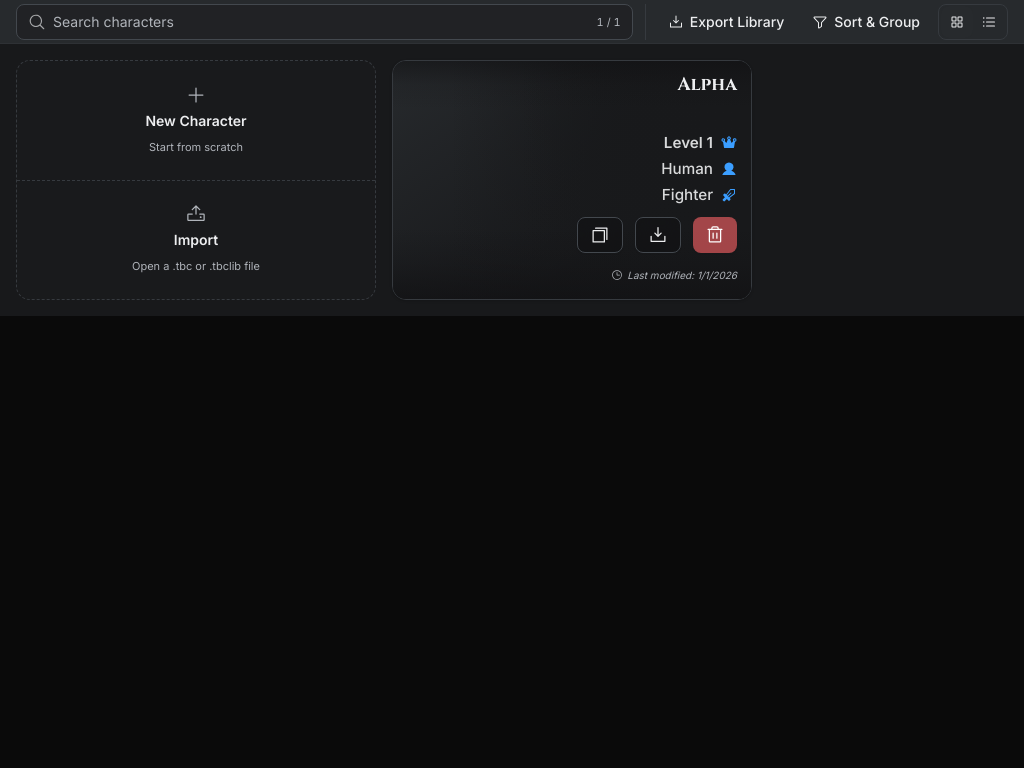
Test case: home page integration workflows › imports valid files despite failures and reports name, ID, and content conflicts
The image size is (1024, 768).
Click the button "Import Open a .tbc or .tbclib file" at point(196, 240), box [17, 180, 375, 299]
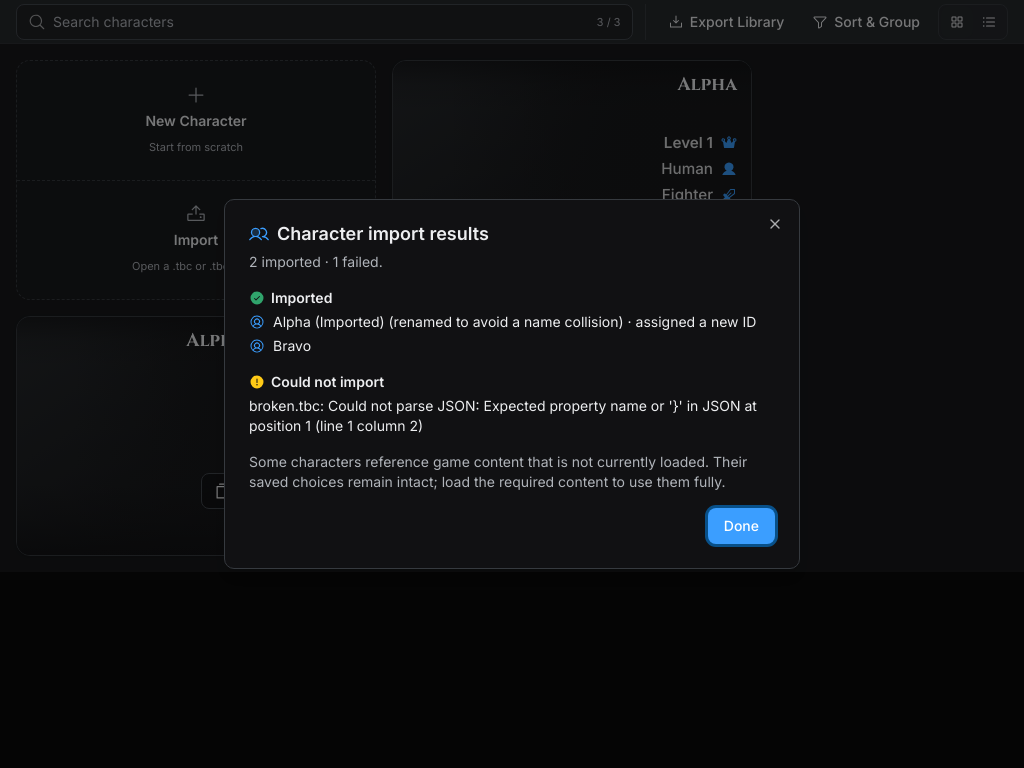
Expected: the text "2 imported · 1 failed." is shown, [249, 253, 383, 270]
Expected: the text "assigned a new ID" is shown, [624, 313, 756, 330]
Expected: the text "Some characters reference game content" is shown, [249, 453, 747, 490]
